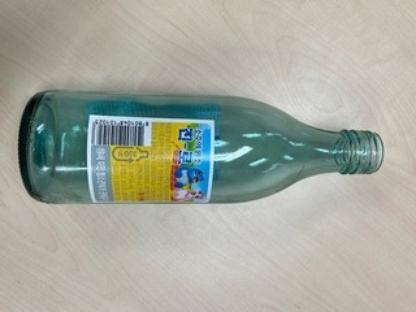Glass Bottle: (19, 90, 385, 208)
